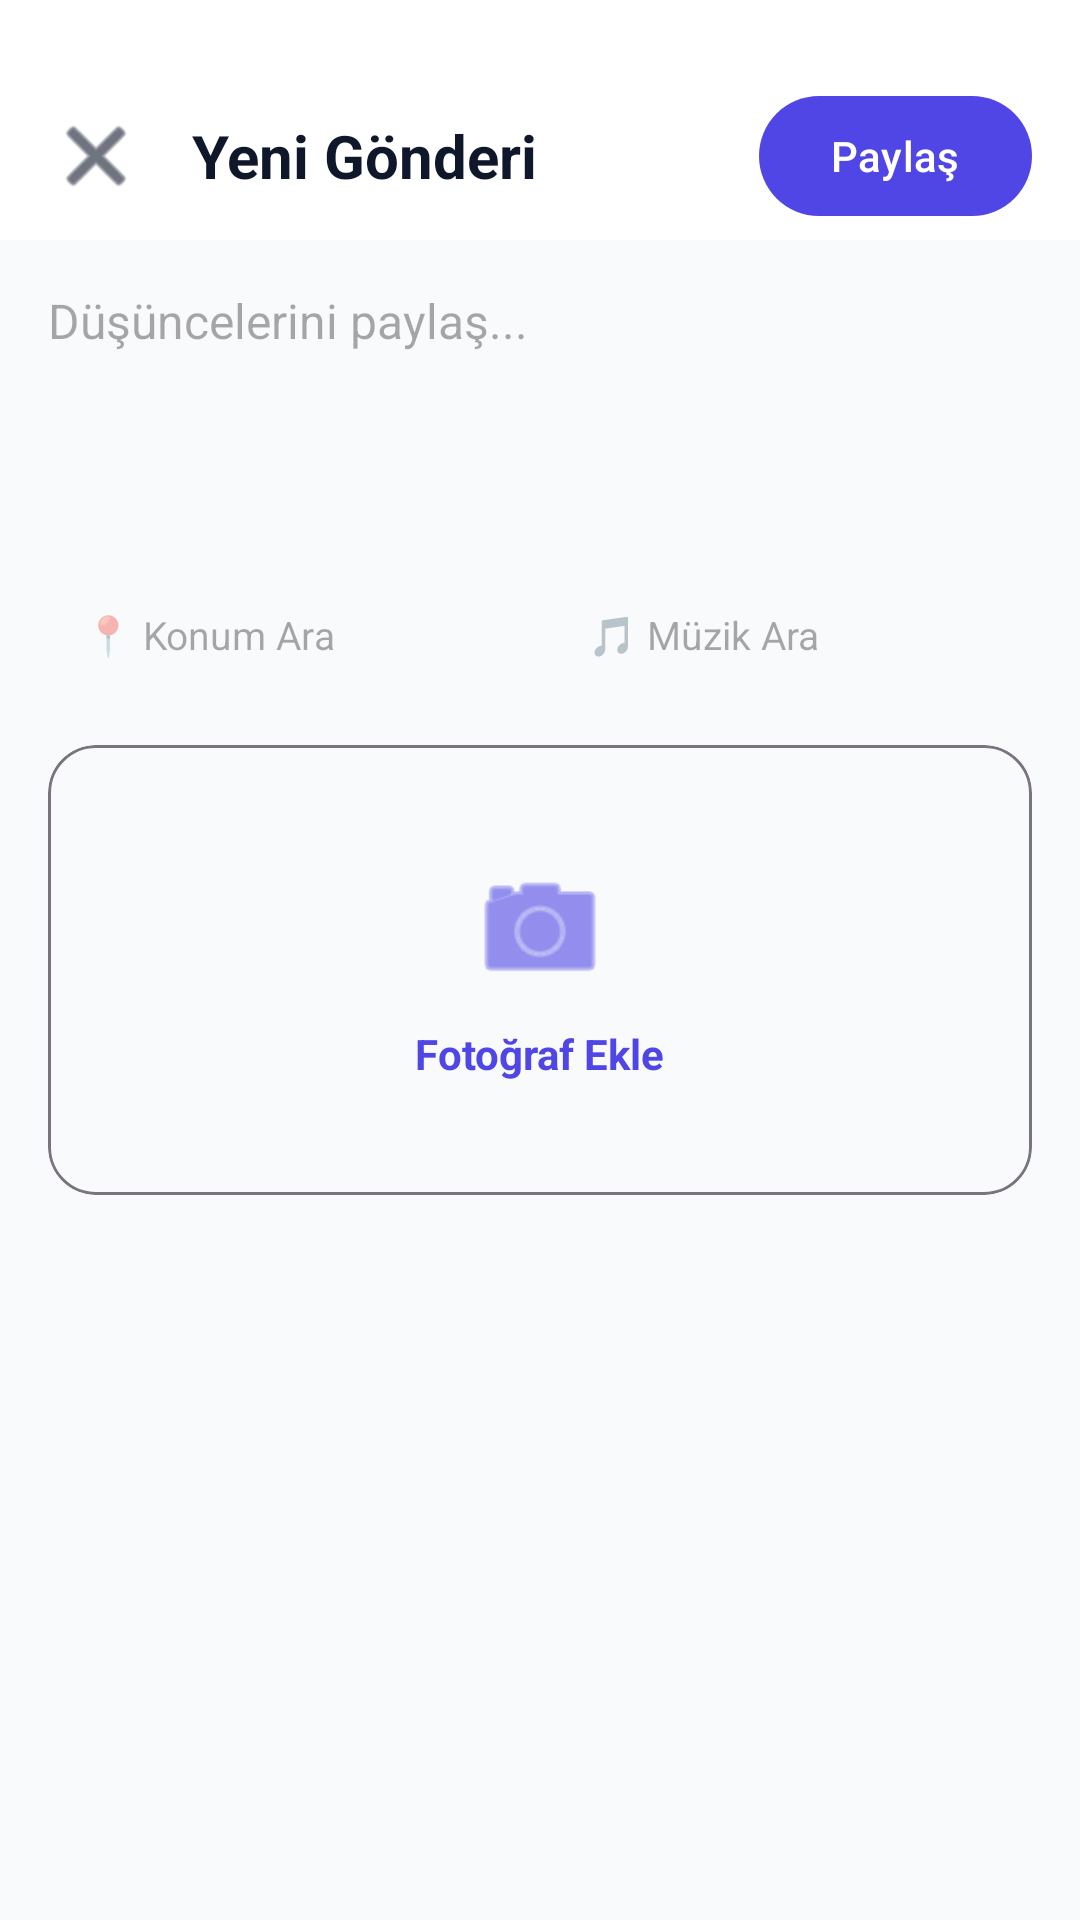

Screen size 1080w x 1920h. Icon name, then its center in pixels as (x=x, y=y):
camera: (x=539, y=927)
close clear cancel: (x=96, y=156)
